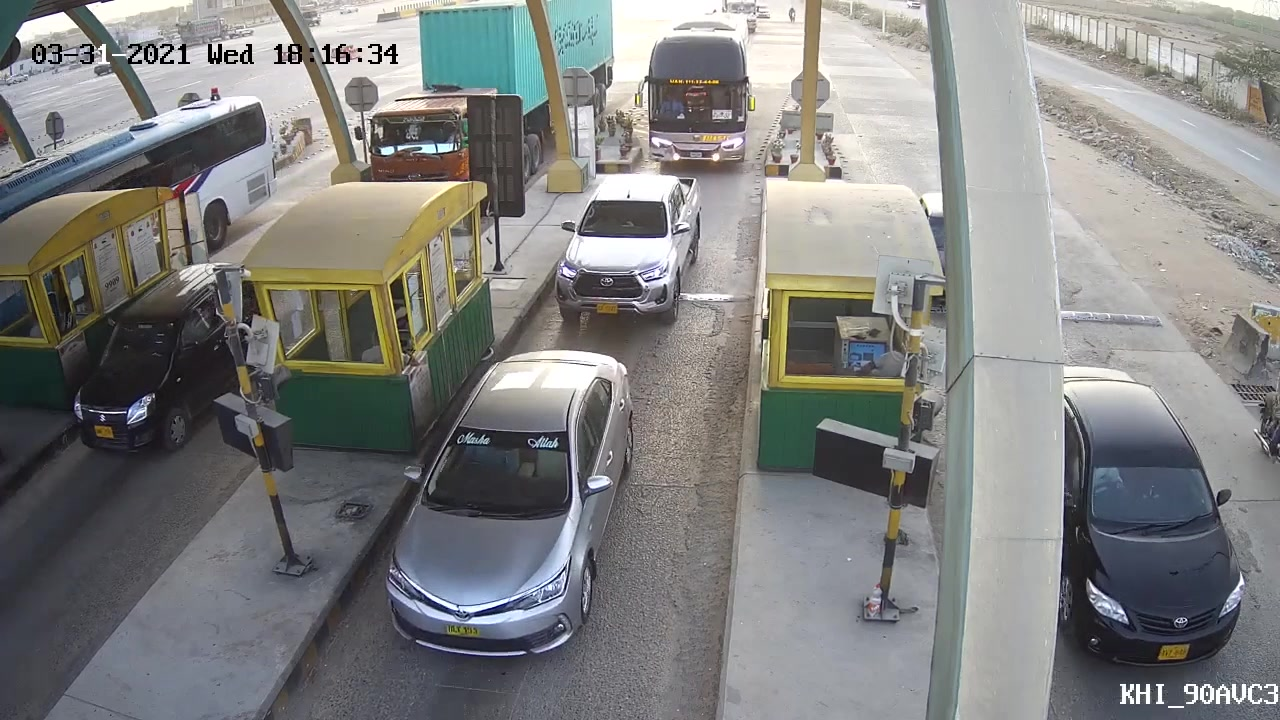F1: (378, 348, 640, 665), (548, 171, 705, 328)
F4: (632, 18, 758, 166)
